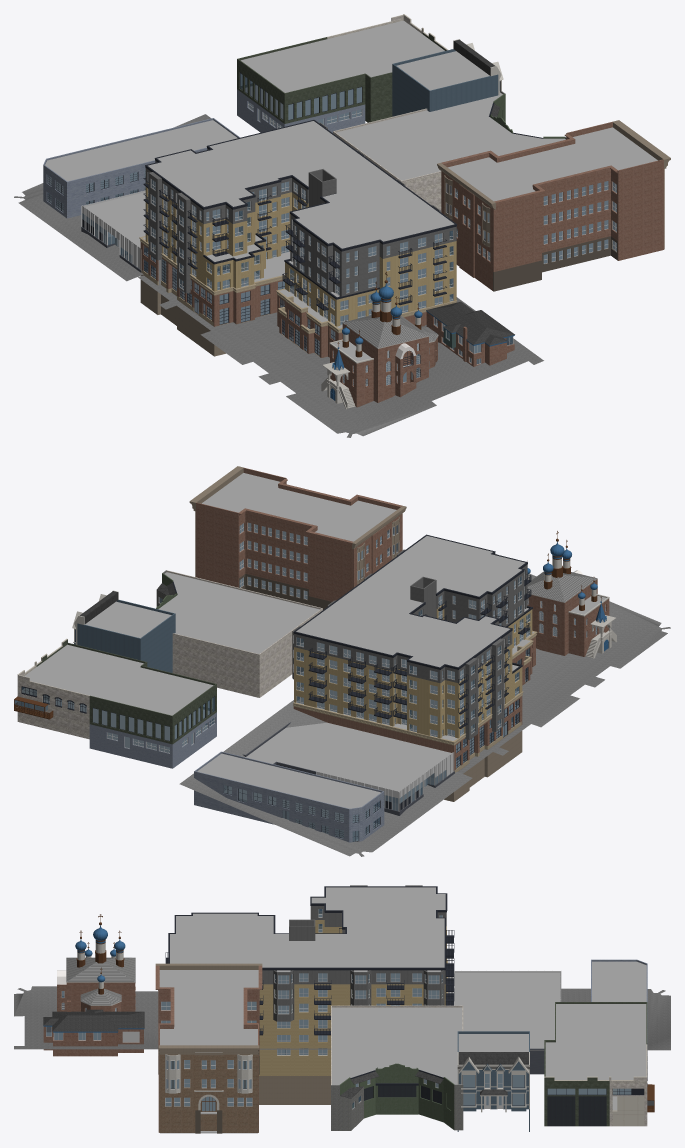
The picture shows the model from 3 angles, top to bottom: view 1: azimuth 30°, elevation 25°; view 2: azimuth 150°, elevation 25°; view 3: azimuth 270°, elevation 25°; orthographic projection. The views are drawn at different scales.
Parts seen in each view (by area): view 1: BD3579, BD3572, BD3612, BD3576, BD3578, BD3638, BD3646, BD3574, BD3614, BD3573, BD3592, BD3644 (+24 smaller); view 2: BD3579, BD3572, BD3612, BD3646, BD3576, BD3598, BD3578, BD3638, BD3614, BD3573, BD3637, BD3574 (+26 smaller); view 3: BD3579, BD3638, BD3646, BD3614, BD3598, BD3576, BD3619, BD3572, BD3578, BD3631, BD3573, BD3574 (+31 smaller).
Part boxes in pixels (<box>): BD3579: <box>143,121,454,354</box>; BD3572: <box>14,114,543,437</box>; BD3612: <box>441,122,663,271</box>; BD3576: <box>145,182,456,326</box>; BD3578: <box>145,122,456,296</box>; BD3638: <box>336,92,565,180</box>; BD3646: <box>241,20,444,127</box>; BD3574: <box>144,173,452,354</box>; BD3614: <box>447,127,657,263</box>; BD3573: <box>143,120,457,355</box>; BD3592: <box>45,120,237,211</box>; BD3644: <box>237,33,446,123</box>; BD3579: <box>296,536,533,767</box>; BD3572: <box>179,553,670,856</box>; BD3612: <box>196,467,402,601</box>; BD3646: <box>24,644,213,752</box>; BD3576: <box>294,604,532,738</box>; BD3598: <box>245,722,451,791</box>; BD3578: <box>292,549,527,739</box>; BD3638: <box>158,572,319,653</box>; BD3614: <box>202,473,396,598</box>; BD3573: <box>294,534,532,768</box>; BD3637: <box>166,570,322,697</box>; BD3574: <box>296,576,529,767</box>; BD3579: <box>170,887,445,1054</box>; BD3638: <box>332,1007,462,1087</box>; BD3646: <box>545,1004,646,1110</box>; BD3614: <box>159,970,258,1133</box>; BD3598: <box>448,972,560,1048</box>; BD3576: <box>259,913,446,1075</box>; BD3619: <box>159,1054,258,1132</box>; BD3572: <box>14,986,670,1050</box>; BD3578: <box>262,885,446,1021</box>; BD3631: <box>339,1063,454,1129</box>; BD3573: <box>165,886,454,1035</box>; BD3574: <box>275,909,442,1054</box>.
Bounding box in the file's own units: 80.39 × 30.88 × 118.
